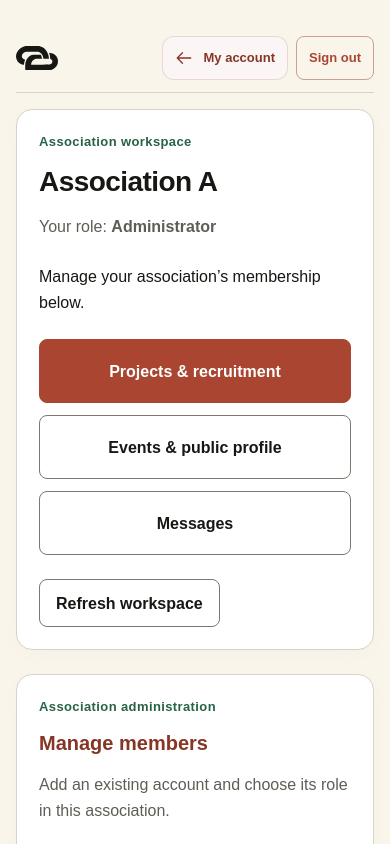
Test case: association workspace › removes admin controls when refreshed server permissions change
Click the button "Refresh workspace": (129, 603) [39,579,220,627]
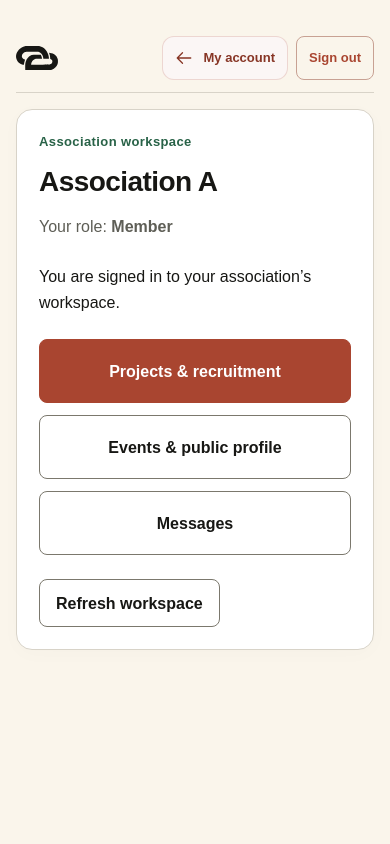
Expected: the heading "Manage members" is gone
